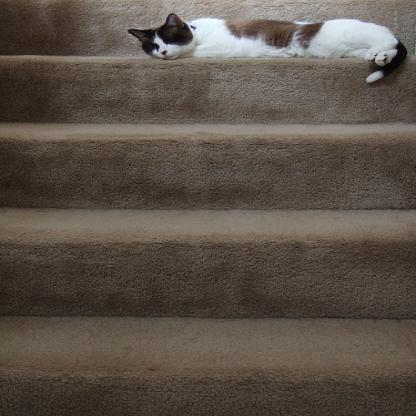stairs: (1, 131, 416, 411)
